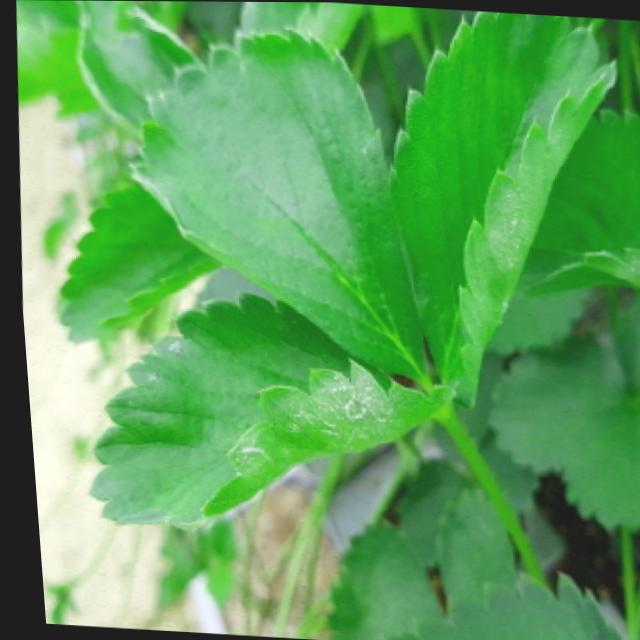Powdery Mildew Leaf: (123, 26, 422, 381), (383, 10, 619, 409), (76, 290, 455, 529)
